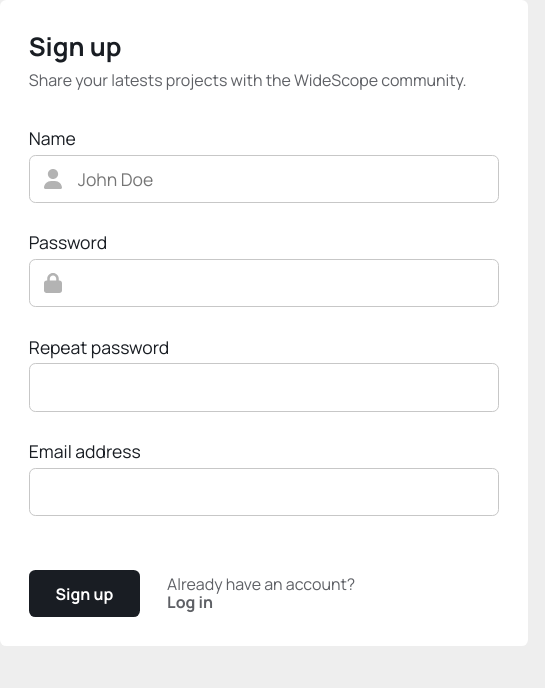
Scenario: Given a SignForm component › When instantiated as any type of form › If the user submit invalid values, a list of errors should appear
This screenshot has width=545, height=688.
What coordinates should you click on to do the following:
click the button "Sign up"
I would click on:
 (84, 594)
Its box is [29,570,140,617].
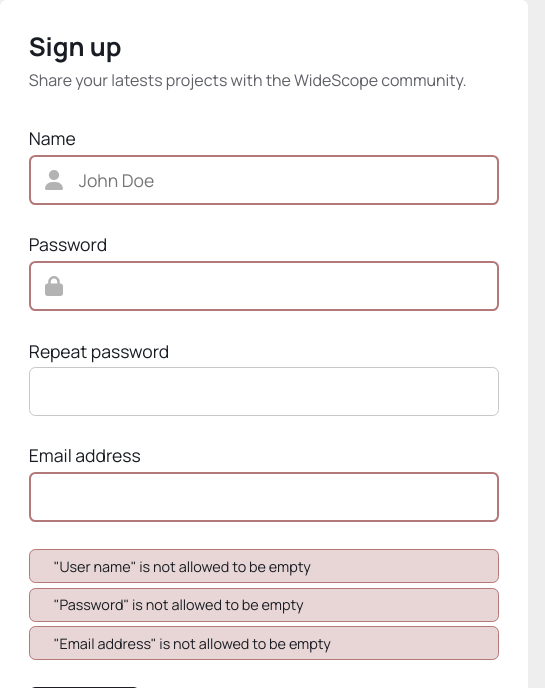
Expected: the list item "\"Password\" is not allowed to be empty" is shown, [29,588,499,622]
